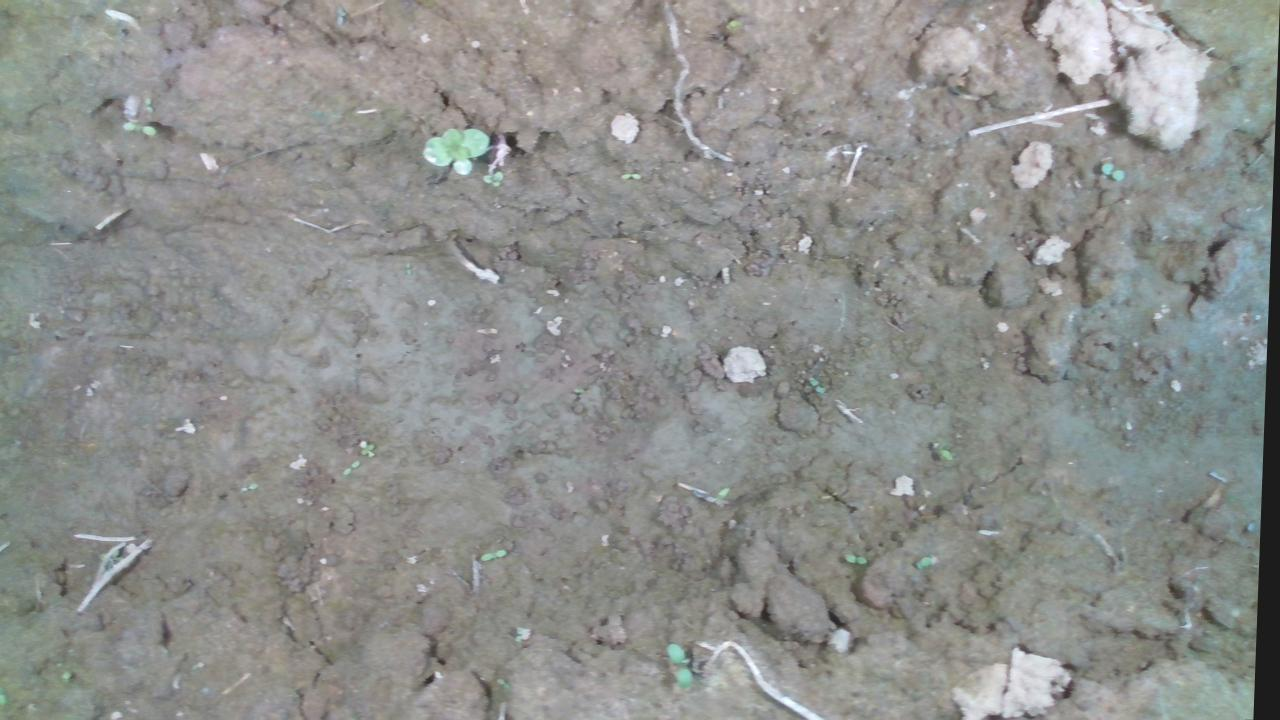weed: (350, 440, 382, 459)
